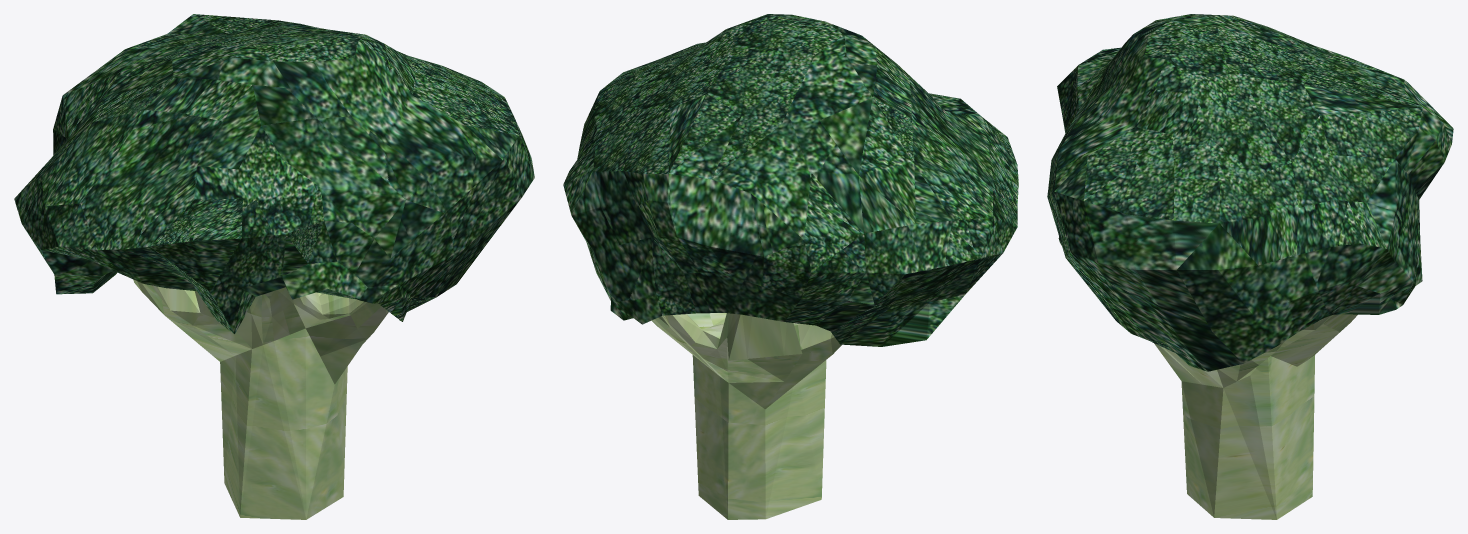
File: broccory.fbx
3 views of the same model, side by side, from view 1: azimuth 30°, elevation 25°; view 2: azimuth 150°, elevation 25°; view 3: azimuth 270°, elevation 25° (orthographic). The views are drawn at different scales.
Parts seen in each view (by area): view 1: polySurface2; view 2: polySurface2; view 3: polySurface2.
Boxes of the visible parts, left/top/right/bottom form: polySurface2: left=14, top=14, right=534, bottom=519; polySurface2: left=563, top=14, right=1018, bottom=519; polySurface2: left=1047, top=14, right=1453, bottom=519.
Bounding box in the file's own units: 56.63 × 57.07 × 46.12.
